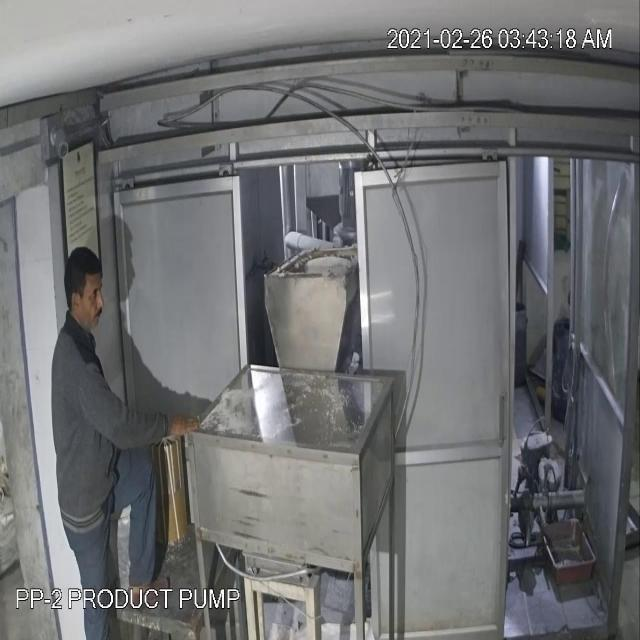no hat: (60, 238, 109, 340)
